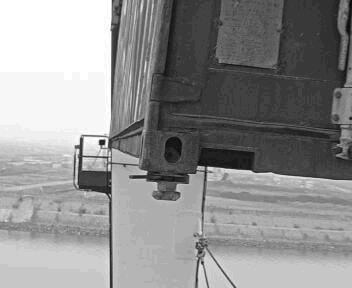twist_lock_1: (138, 168, 196, 208)
